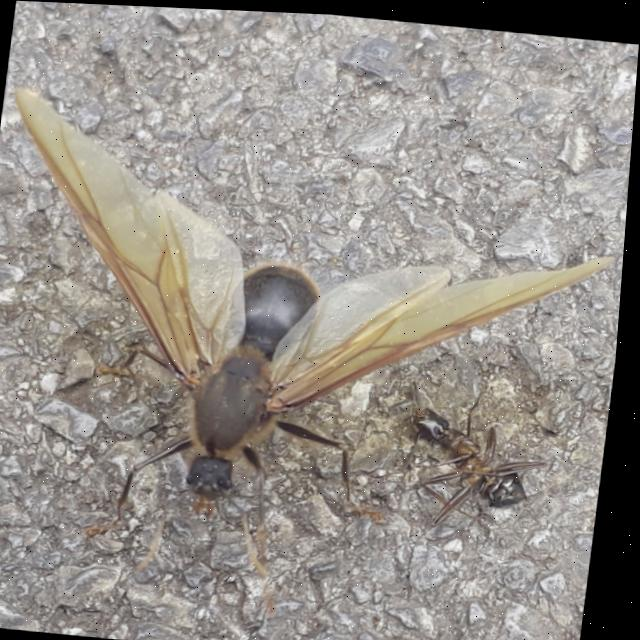Alive-Male-Alate: (0, 87, 631, 581)
